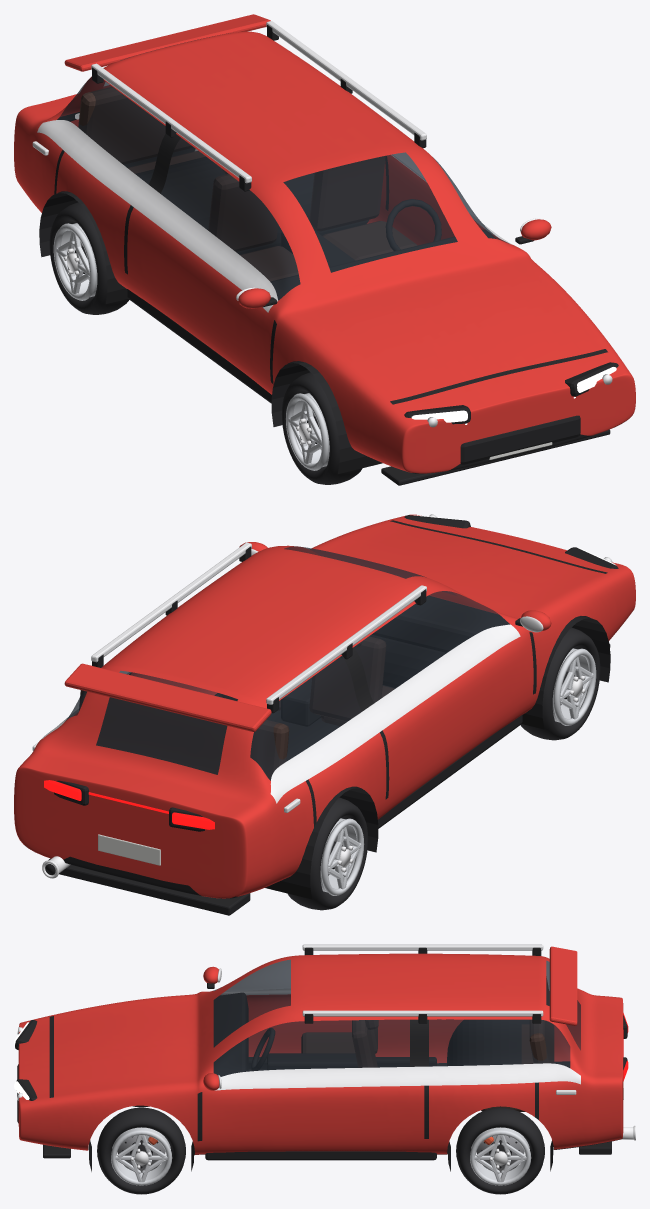
File: nordwind.glb
3 views of the same model, one above another, from view 1: azimuth 30°, elevation 25°; view 2: azimuth 150°, elevation 25°; view 3: azimuth 270°, elevation 25° (orthographic). The views are drawn at different scales.
Visible parts, largest first — view 1: body, wheel_rr, wheel_fr; view 2: body, wheel_fr, wheel_rr; view 3: body, wheel_fl, wheel_rl.
Part boxes in pixels (bbox=[...]): body: bbox=[14, 14, 635, 485]; wheel_rr: bbox=[49, 202, 129, 314]; wheel_fr: bbox=[281, 372, 362, 484]; body: bbox=[14, 514, 635, 915]; wheel_fr: bbox=[520, 627, 600, 740]; wheel_rr: bbox=[288, 797, 368, 910]; body: bbox=[14, 944, 635, 1171]; wheel_fl: bbox=[97, 1107, 185, 1194]; wheel_rl: bbox=[456, 1107, 544, 1194].
Bounding box in the file's own units: 2.18 × 1.47 × 4.89.
